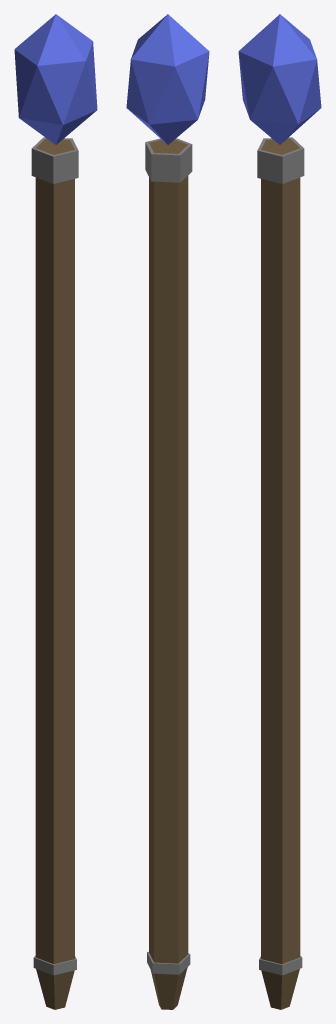
The model's file is Staff.fbx.
The picture shows the model from 3 angles, left to right: view 1: azimuth 30°, elevation 25°; view 2: azimuth 210°, elevation 25°; view 3: azimuth 330°, elevation 25°; orthographic projection.
Visible parts, largest first — view 1: Staff; view 2: Staff; view 3: Staff.
Boxes of the visible parts, x1,y1,x2,y2 form: Staff: (14,14,97,1009); Staff: (126,14,209,1009); Staff: (238,14,321,1009).
Size of the model in its own units: 65.8 by 840 by 56.93.
